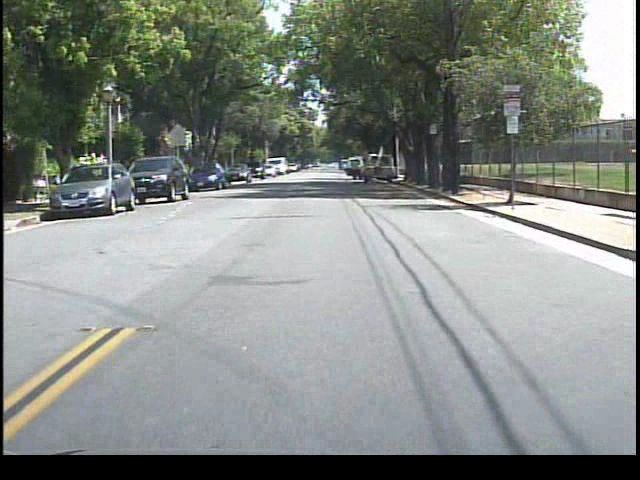person: (347, 157, 362, 183)
